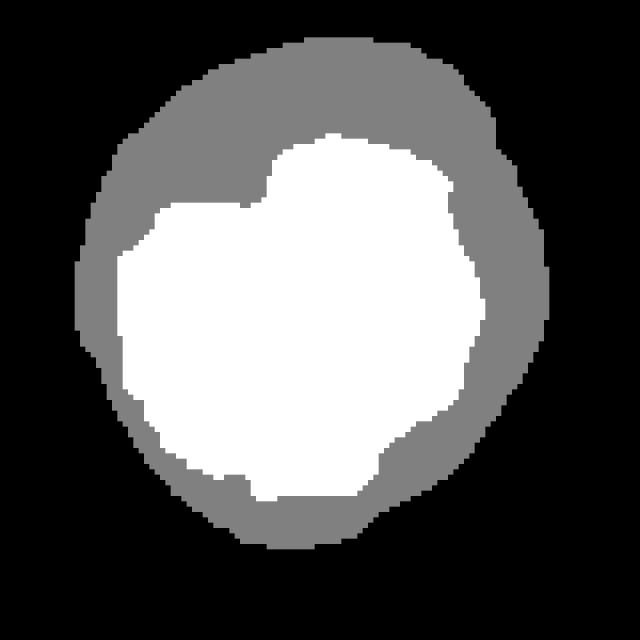WBC: (32, 5, 581, 571)
